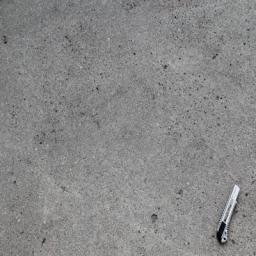FOD: (216, 183, 243, 246)
